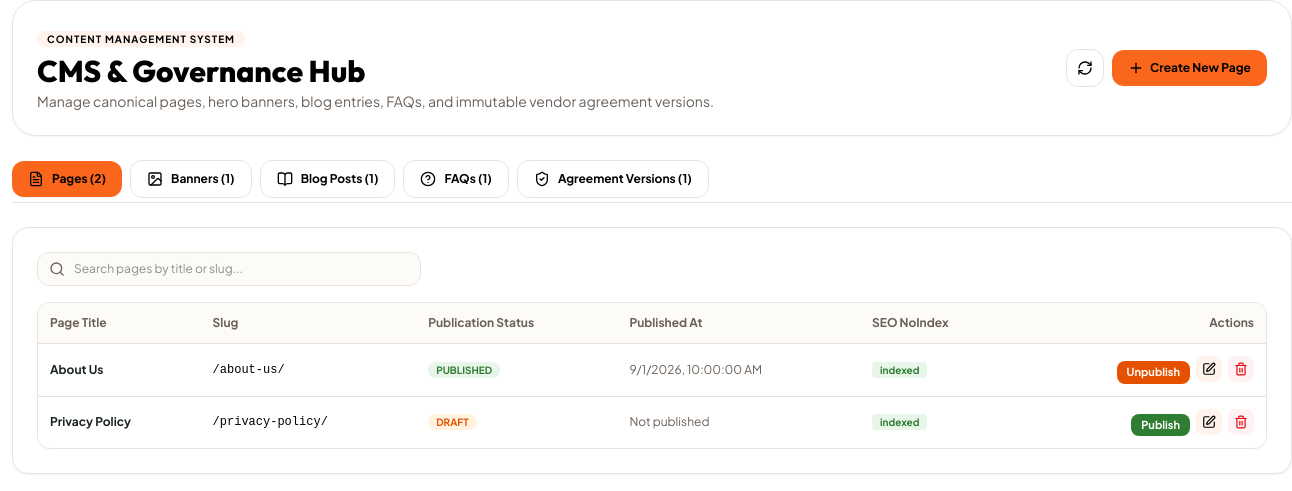
Test: CmsModule — Real Backend API Wiring & Tabbed Governance › 3. renders agreement versions as view-only and append-only
The image size is (1292, 491).
Expected: the text "About Us" is shown, [50, 362, 103, 377]
Click the button "Agreement Versions (1)". click: (613, 179)
box: [517, 160, 709, 198]
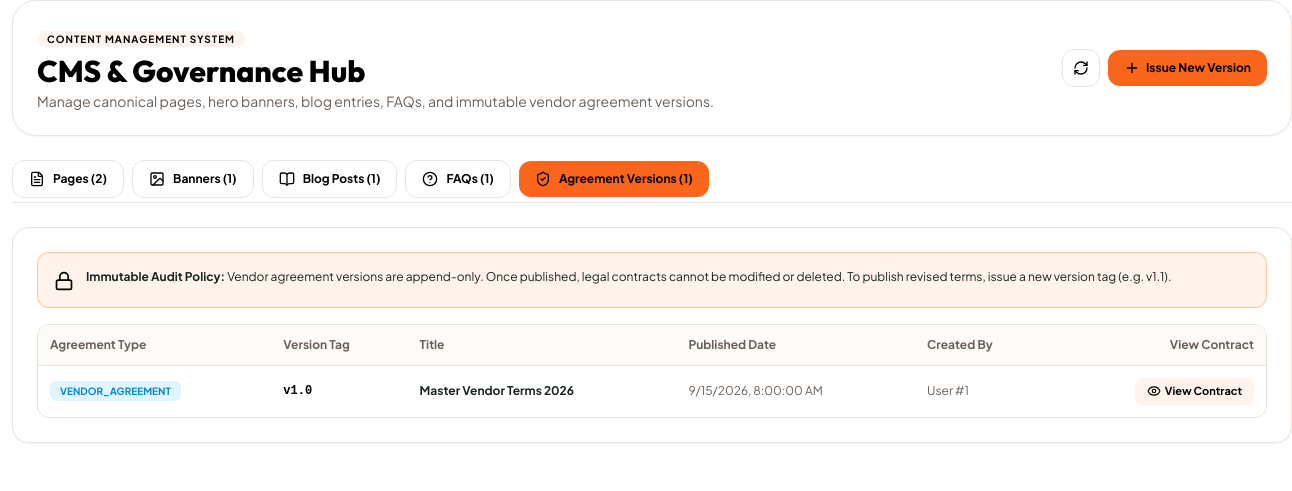
Expected: the text "Master Vendor Terms 2026" is shown, [408, 366, 676, 417]
Expected: the text "Vendor agreement versions are append-only" is shown, [225, 269, 1171, 284]
